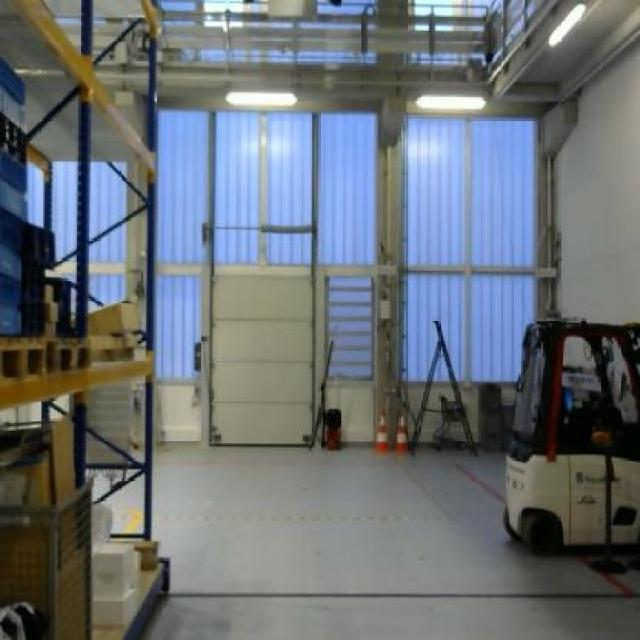box: (89, 298, 142, 334)
